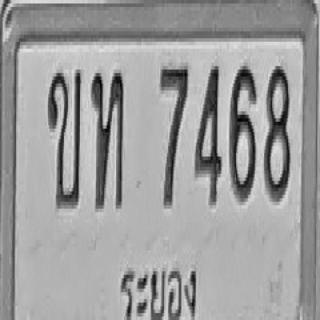A02: (47, 66, 81, 209)
A23: (91, 70, 124, 209)
N04: (195, 63, 221, 205)
N06: (229, 63, 256, 202)
N07: (160, 63, 188, 205)
N08: (264, 63, 291, 202)
P53: (116, 258, 199, 320)
